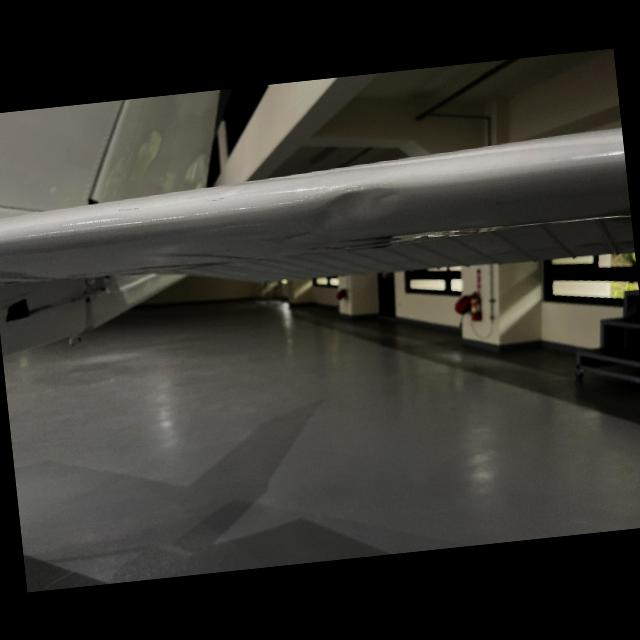dent: (292, 178, 418, 232)
